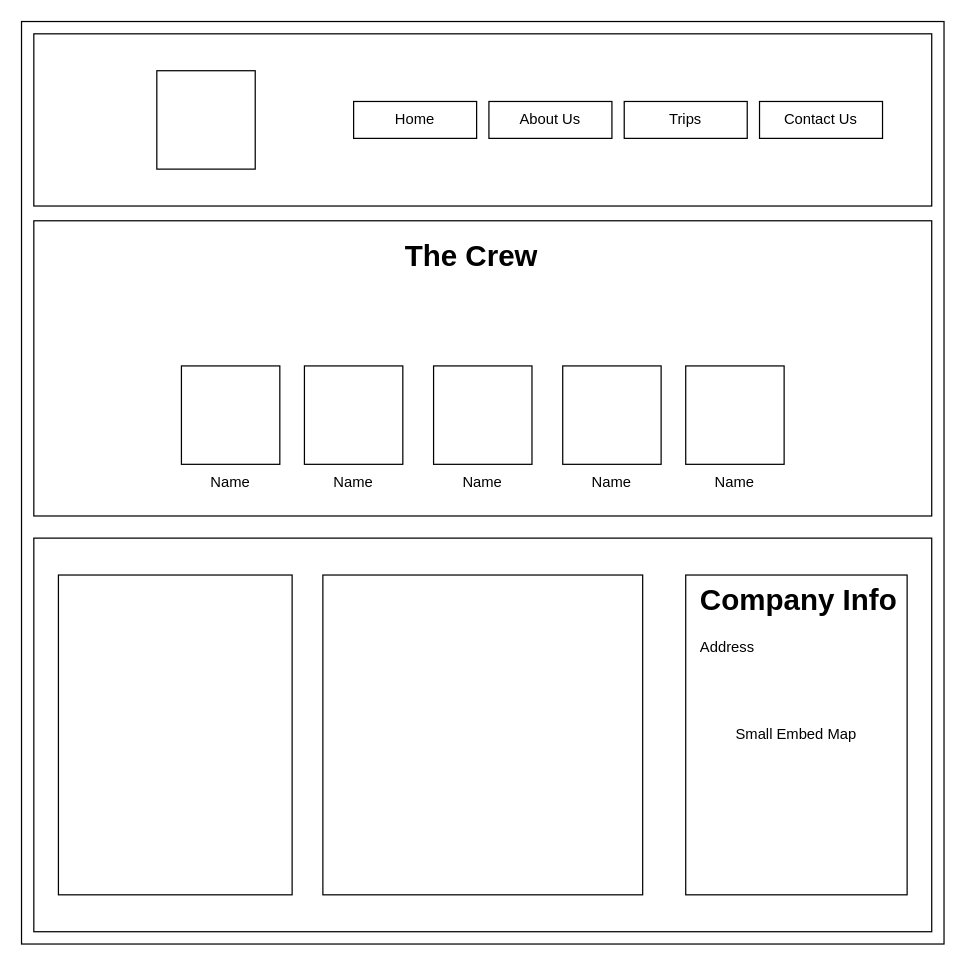
This 966x966 diagram has some shape labels left out. The shapes that lost their labels are listed below. From the top down, each one's centre as x and y in pixels, then its label:
pixel 174 734: Company Info Phone Number Email
pixel 482 734: Form
